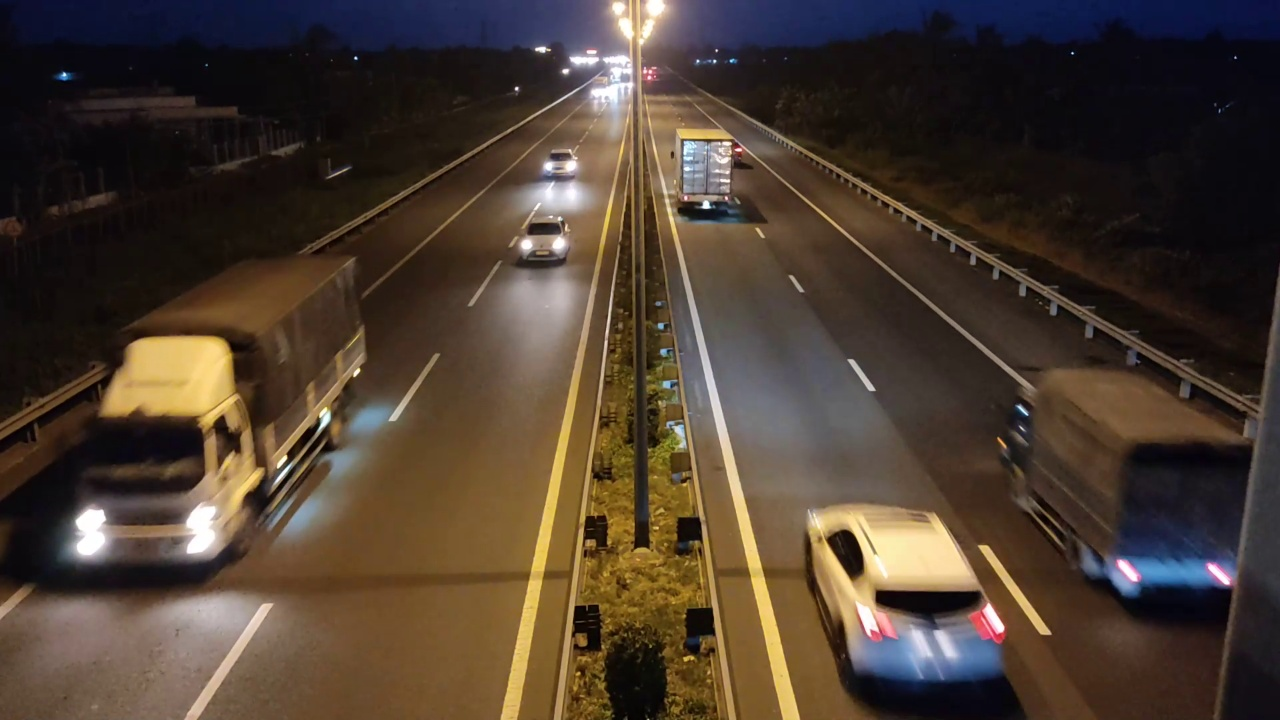car: (803, 501, 1008, 699), (509, 212, 573, 266), (541, 148, 579, 179)
truck: (47, 251, 369, 583), (996, 365, 1256, 613), (671, 128, 737, 217)
